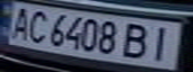0: (78, 16, 100, 53)
4: (63, 15, 84, 51)
6: (45, 11, 69, 48)
8: (96, 18, 124, 56)
A: (3, 4, 36, 42)
B: (121, 20, 154, 61)
C: (24, 8, 51, 44)
I: (145, 24, 181, 62)
